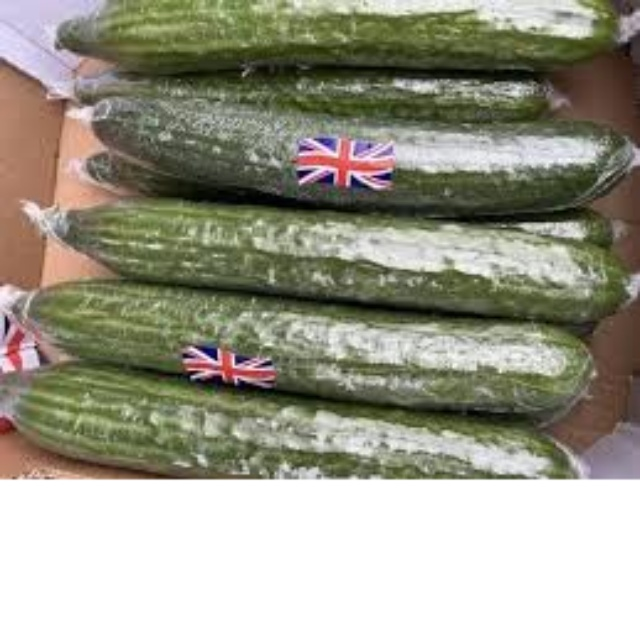dua_leo: (20, 280, 602, 421), (29, 194, 631, 324), (15, 356, 595, 480), (63, 91, 638, 213)
